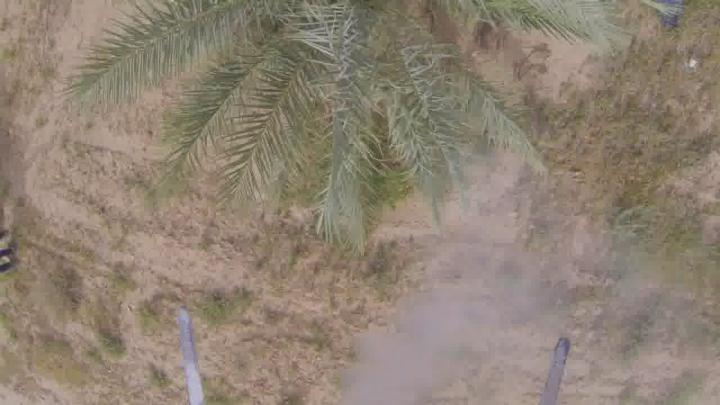Date-Palm-Crown: (176, 0, 526, 164)
